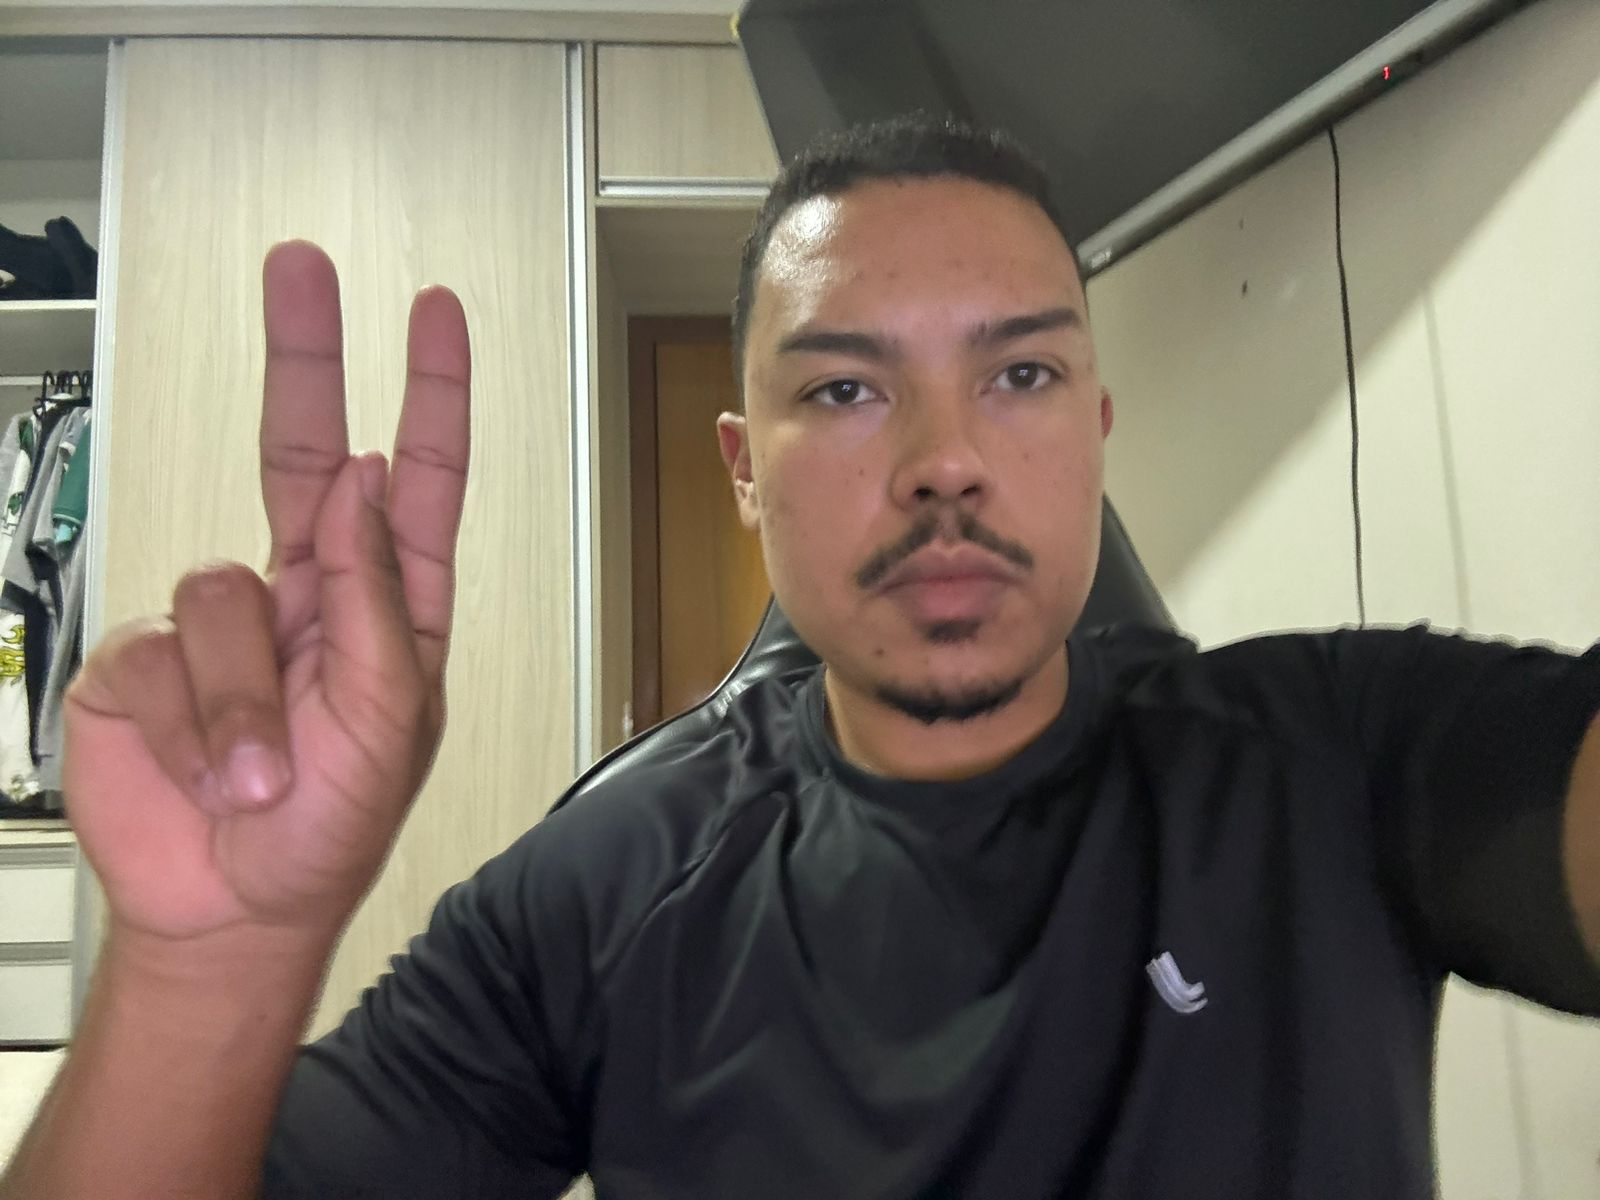k: (52, 219, 476, 937)
